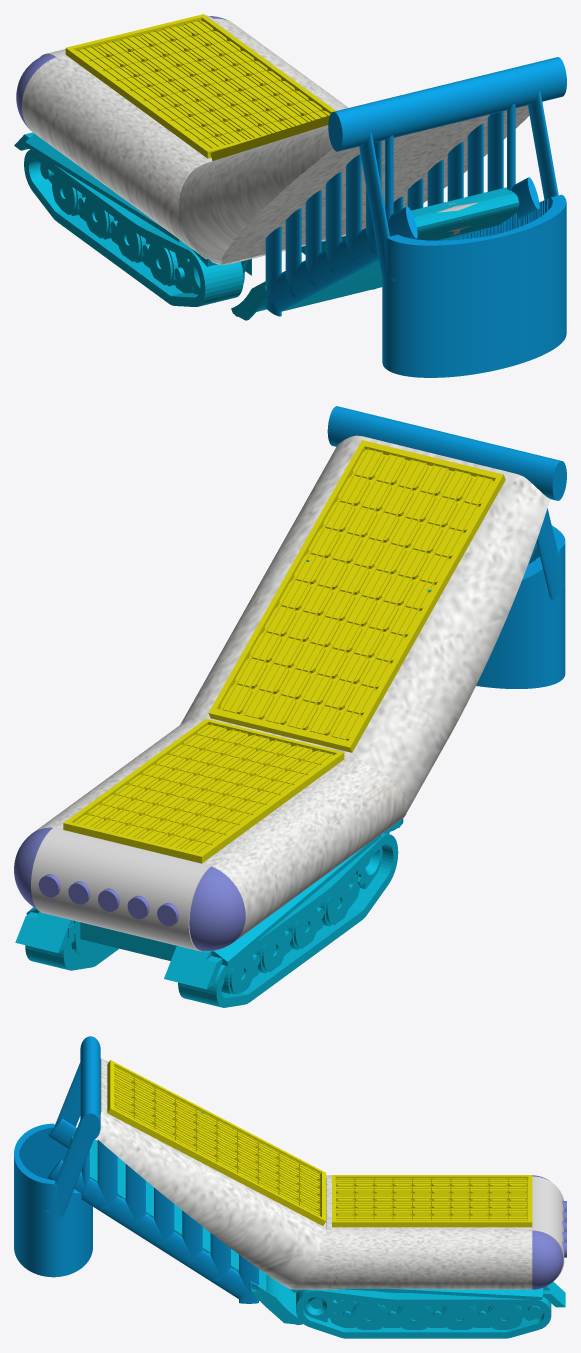
File: D20Site.glb
3 renders of one model, top to bottom at view 1: azimuth 30°, elevation 25°; view 2: azimuth 150°, elevation 25°; view 3: azimuth 270°, elevation 25°, orthographic. The views are drawn at different scales.
Size of the model in its own units: 0.1146 by 0.1594 by 0.3454.
Materials: 3 (1 with a texture image).
